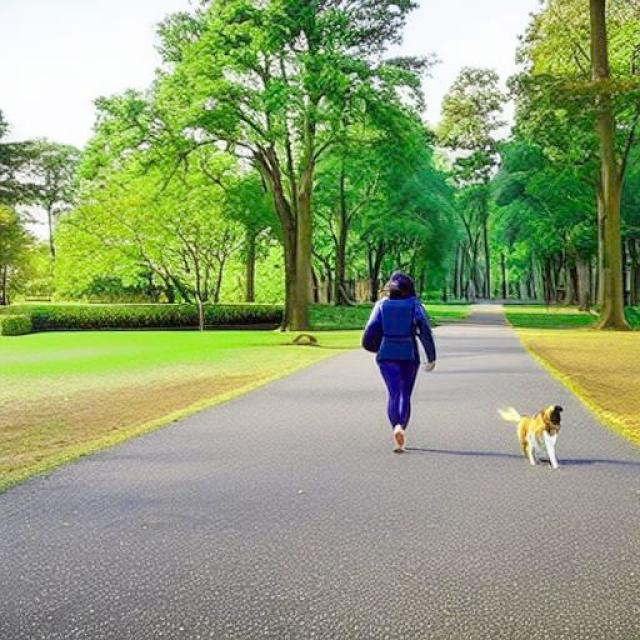Unleashed_Dog: (386, 339, 564, 470)
